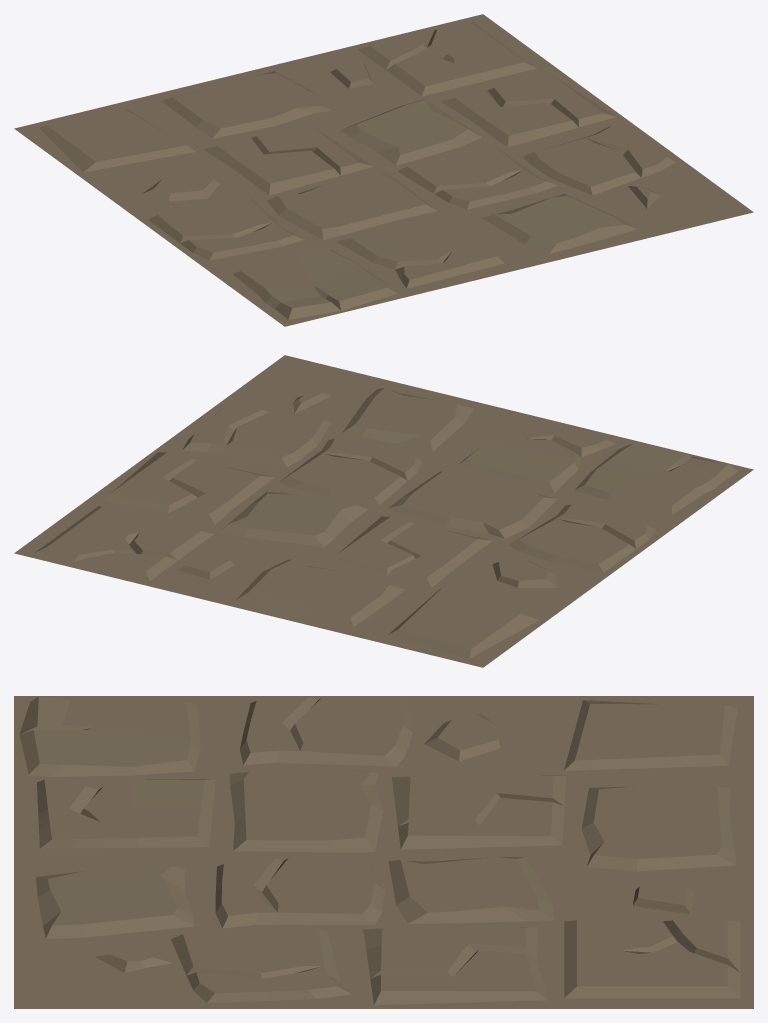
File: Floor_Tile_Small_2_low.fbx
The picture shows the model from 3 angles, top to bottom: view 1: azimuth 30°, elevation 25°; view 2: azimuth 150°, elevation 25°; view 3: azimuth 270°, elevation 25°; orthographic projection. The views are drawn at different scales.
Visible parts, largest first — view 1: Floor_Tile_Small_2_low; view 2: Floor_Tile_Small_2_low; view 3: Floor_Tile_Small_2_low.
Boxes of the visible parts, x1=… form: Floor_Tile_Small_2_low: x1=14, y1=14, x2=753, y2=326; Floor_Tile_Small_2_low: x1=14, y1=355, x2=753, y2=667; Floor_Tile_Small_2_low: x1=14, y1=696, x2=753, y2=1008.
Bounding box in the file's own units: 1 × 0.0164 × 1.
